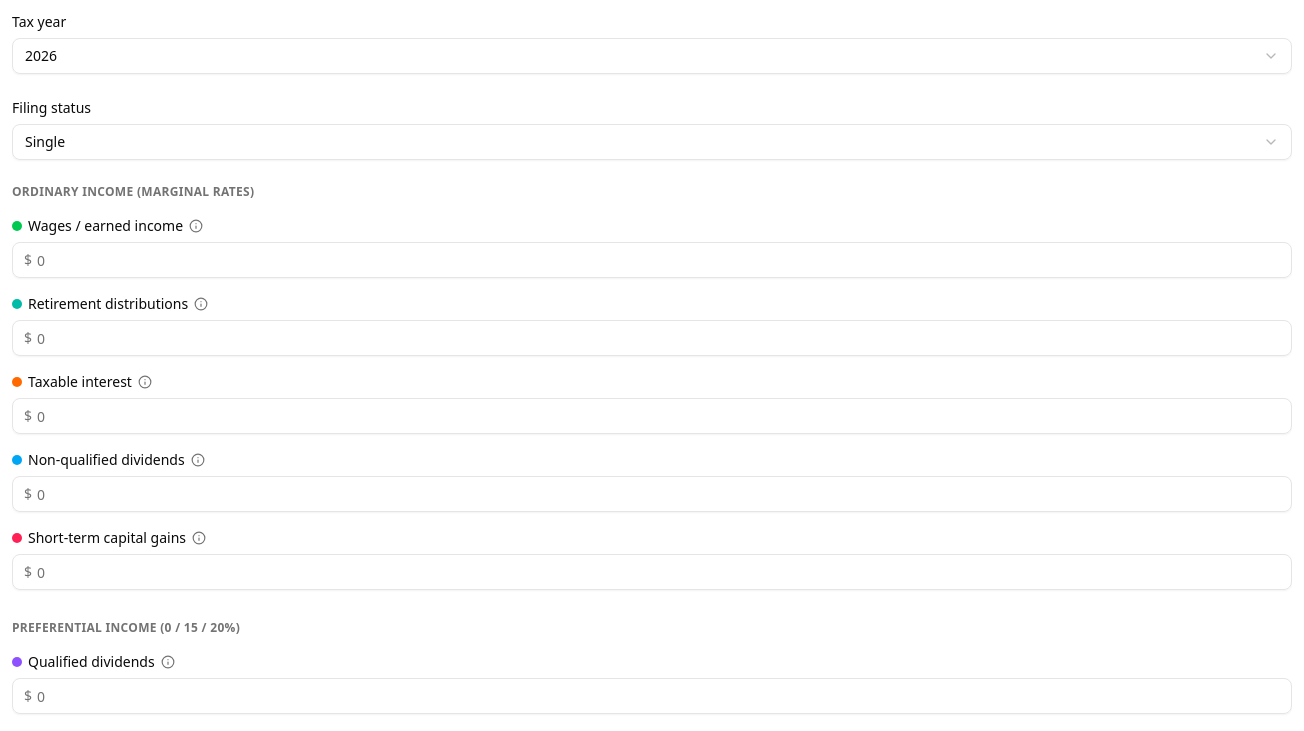
Test: IncomeForm money fields › strips non-digits from typed input
The image size is (1304, 731).
Type "1,2a3" into the field with id "interest".
click(652, 416); type("1,2a3")  # box [12,398,1292,434]
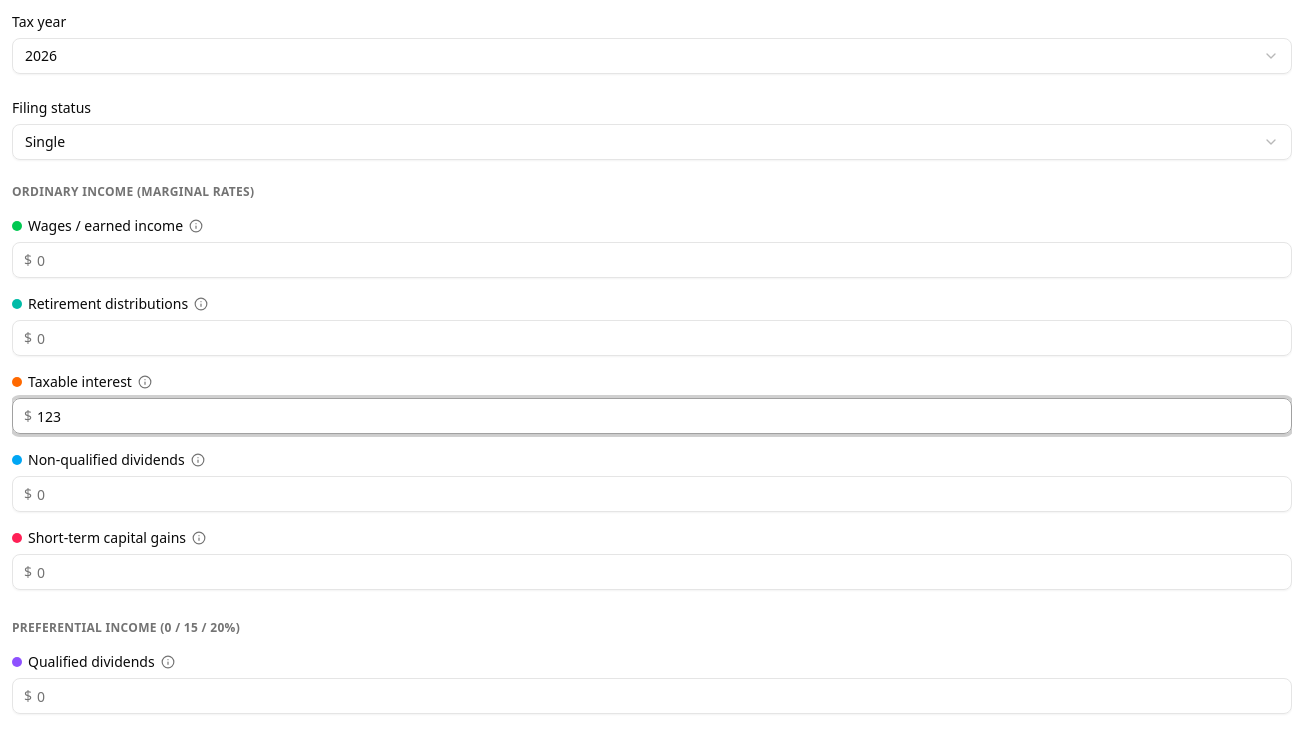
Now the field with id "interest" holds "123", box [12,398,1292,434]
